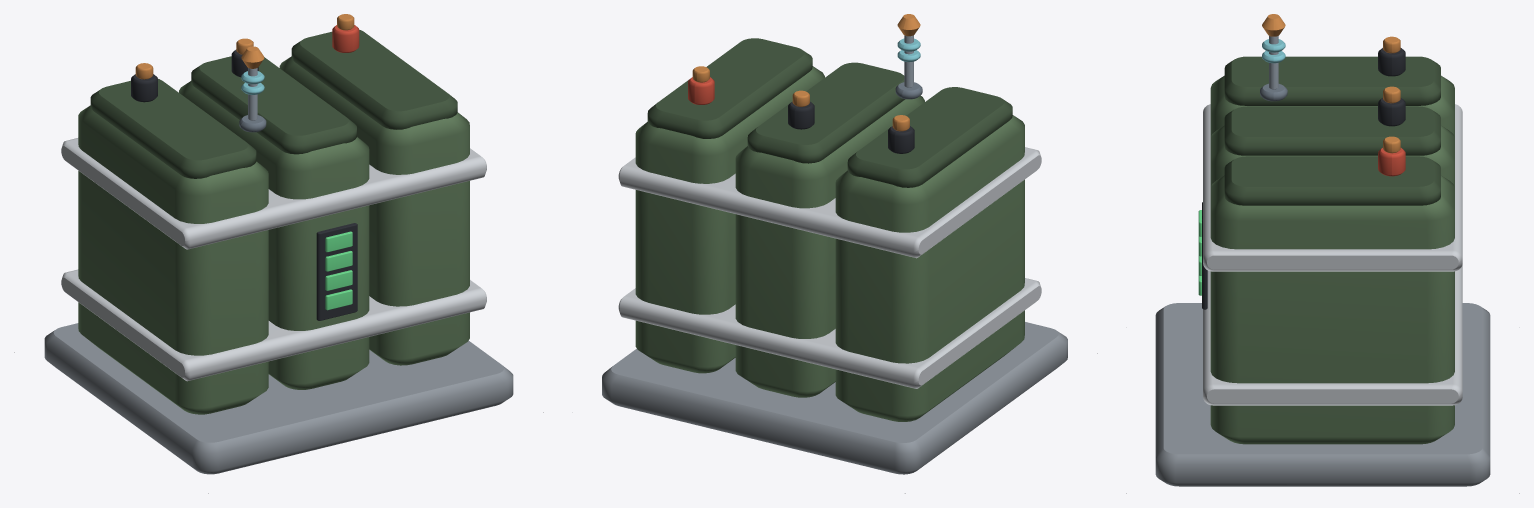
The model's file is accumulateur_base.glb.
The picture shows the model from 3 angles, left to right: view 1: azimuth 30°, elevation 25°; view 2: azimuth 150°, elevation 25°; view 3: azimuth 270°, elevation 25°; orthographic projection. The views are drawn at different scales.
Visible parts, largest first — view 1: pieces_accu.002, pieces_coffret_sombre.002, pieces_accu_sombre.002, pieces_coffret.002, pieces_panneau_noir.002, voyant_charge_voyant_vert.002, pieces_isolateur_cuivre.002, pieces_levier_rouge.002; view 2: pieces_accu.002, pieces_coffret_sombre.002, pieces_accu_sombre.002, pieces_coffret.002, pieces_panneau_noir.002, pieces_isolateur_cuivre.002, pieces_levier_rouge.002; view 3: pieces_accu.002, pieces_accu_sombre.002, pieces_coffret_sombre.002, pieces_coffret.002, pieces_panneau_noir.002, pieces_isolateur_cuivre.002, pieces_levier_rouge.002, pieces_isolateur_verre.002.
Boxes of the visible parts, left/top/right/bottom form: pieces_accu.002: left=78, top=56, right=469, bottom=414; pieces_coffret_sombre.002: left=44, top=323, right=513, bottom=474; pieces_accu_sombre.002: left=90, top=29, right=457, bottom=178; pieces_coffret.002: left=61, top=138, right=486, bottom=381; pieces_panneau_noir.002: left=131, top=49, right=357, bottom=320; voyant_charge_voyant_vert.002: left=325, top=231, right=352, bottom=310; pieces_isolateur_cuivre.002: left=135, top=14, right=354, bottom=79; pieces_levier_rouge.002: left=332, top=25, right=359, bottom=52; pieces_accu.002: left=635, top=66, right=1024, bottom=421; pieces_coffret_sombre.002: left=602, top=322, right=1067, bottom=474; pieces_accu_sombre.002: left=647, top=38, right=1012, bottom=187; pieces_coffret.002: left=618, top=147, right=1041, bottom=388; pieces_panneau_noir.002: left=788, top=101, right=914, bottom=153; pieces_isolateur_cuivre.002: left=692, top=14, right=920, bottom=131; pieces_levier_rouge.002: left=688, top=77, right=714, bottom=104; pieces_accu.002: left=1210, top=75, right=1454, bottom=444; pieces_accu_sombre.002: left=1224, top=56, right=1440, bottom=205; pieces_coffret_sombre.002: left=1155, top=303, right=1490, bottom=486; pieces_coffret.002: left=1203, top=104, right=1462, bottom=405; pieces_panneau_noir.002: left=1202, top=48, right=1405, bottom=309; pieces_isolateur_cuivre.002: left=1262, top=14, right=1400, bottom=153; pieces_levier_rouge.002: left=1378, top=148, right=1405, bottom=176; pieces_isolateur_verre.002: left=1262, top=39, right=1285, bottom=63.
Size of the model in its own units: 1 by 1.03 by 1.
